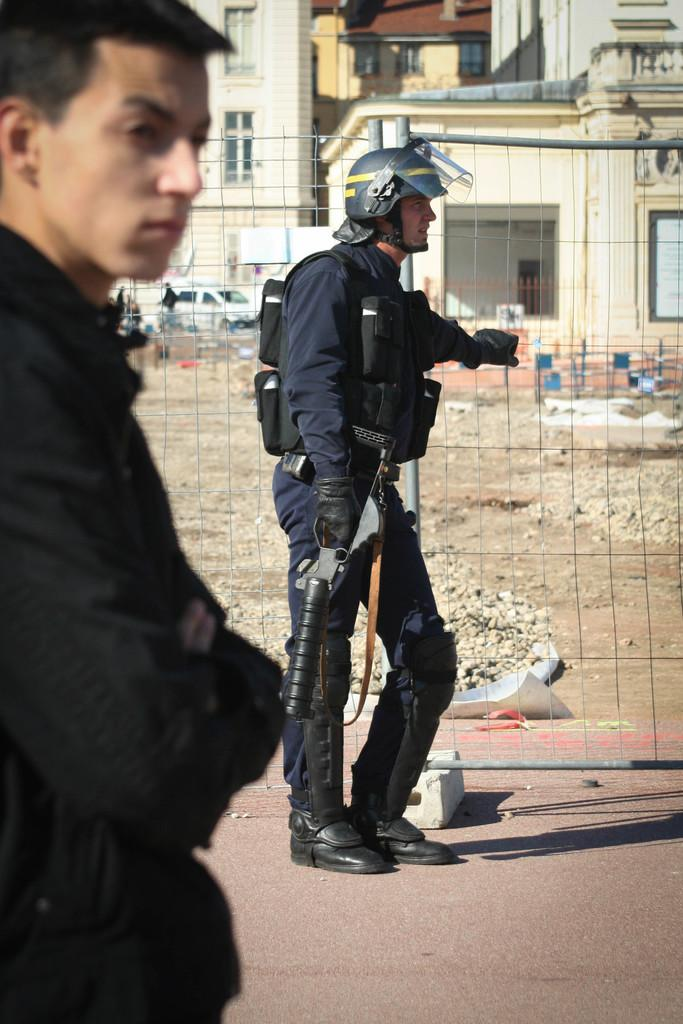helmet: (344, 137, 474, 246)
nohelmet: (0, 0, 238, 287)
